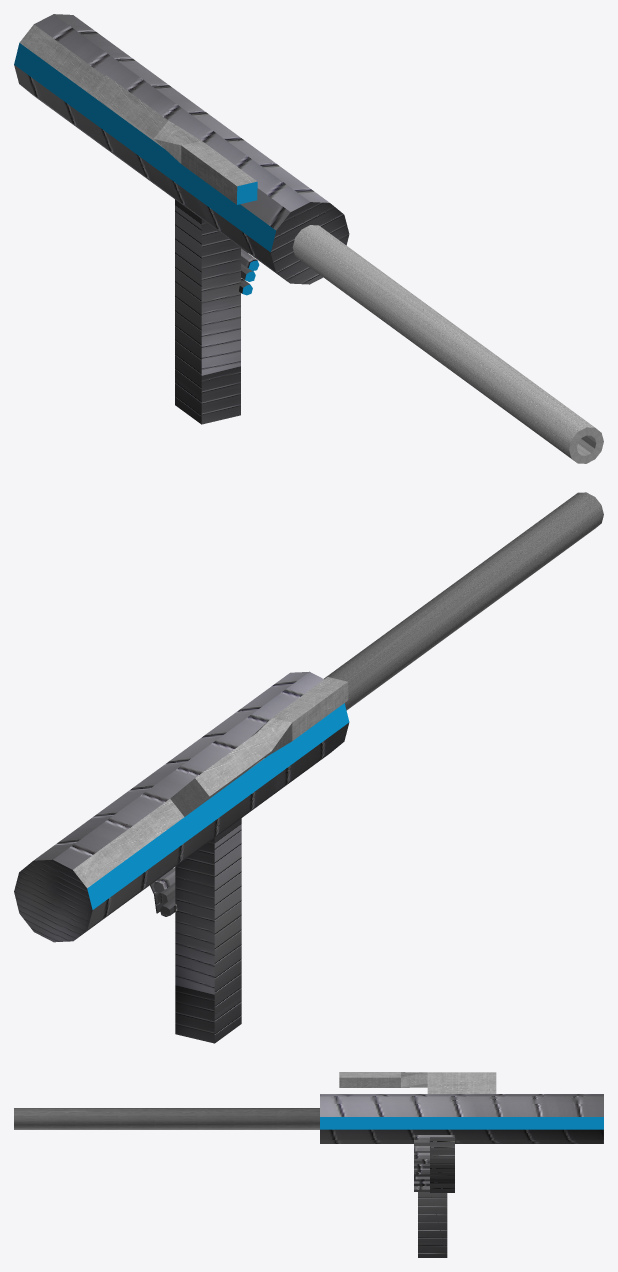
File: gauss.obj
The picture shows the model from 3 angles, top to bottom: view 1: azimuth 30°, elevation 25°; view 2: azimuth 150°, elevation 25°; view 3: azimuth 270°, elevation 25°; orthographic projection. The views are drawn at different scales.
Parts seen in each view (by area): view 1: Gauss_Cylinder_Metal2, Gauss_Cylinder_Metal, Gauss_Cylinder_Energy_Glow; view 2: Gauss_Cylinder_Metal2, Gauss_Cylinder_Metal, Gauss_Cylinder_Energy_Glow; view 3: Gauss_Cylinder_Metal2, Gauss_Cylinder_Metal, Gauss_Cylinder_Energy_Glow.
Boxes of the visible parts, x1=… form: Gauss_Cylinder_Metal2: x1=14, y1=14, x2=349, y2=424; Gauss_Cylinder_Metal: x1=19, y1=24, x2=603, y2=463; Gauss_Cylinder_Energy_Glow: x1=14, y1=43, x2=275, y2=295; Gauss_Cylinder_Metal2: x1=14, y1=671, x2=348, y2=1043; Gauss_Cylinder_Metal: x1=73, y1=492, x2=603, y2=888; Gauss_Cylinder_Energy_Glow: x1=87, y1=703, x2=349, y2=909; Gauss_Cylinder_Metal2: x1=320, y1=1094, x2=603, y2=1257; Gauss_Cylinder_Metal: x1=14, y1=1072, x2=496, y2=1129; Gauss_Cylinder_Energy_Glow: x1=320, y1=1117, x2=603, y2=1129.
Size of the model in its own units: 0.635 by 1.48 by 4.7.
4 materials, 4 textured.
